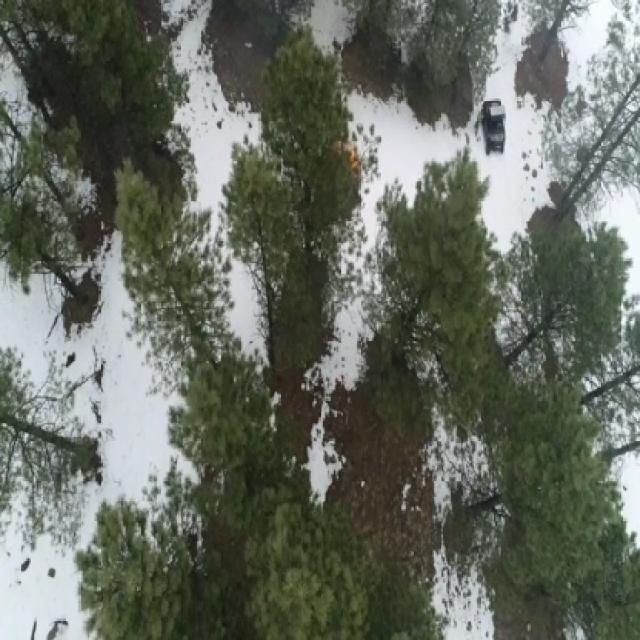Fire: (352, 150, 359, 171)
